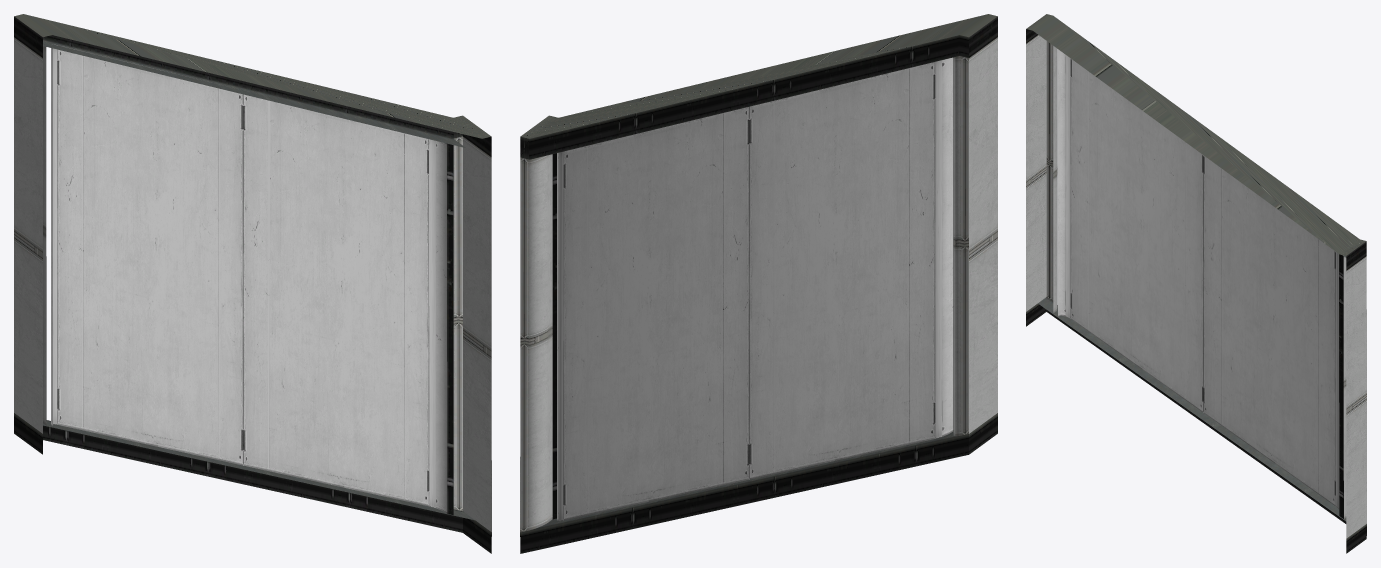
The model's file is Neon_Wall_Stairs_S.FBX.
The picture shows the model from 3 angles, left to right: view 1: azimuth 30°, elevation 25°; view 2: azimuth 150°, elevation 25°; view 3: azimuth 330°, elevation 25°; orthographic projection. The views are drawn at different scales.
Visible parts, largest first — view 1: Neon_Wall_Stairs_S; view 2: Neon_Wall_Stairs_S; view 3: Neon_Wall_Stairs_S.
Part boxes in pixels (x1,y1,x2,y2): Neon_Wall_Stairs_S: (14,14,491,553); Neon_Wall_Stairs_S: (520,14,997,553); Neon_Wall_Stairs_S: (1026,14,1366,553).
Size of the model in its own units: 4.5 by 6 by 0.5001.
